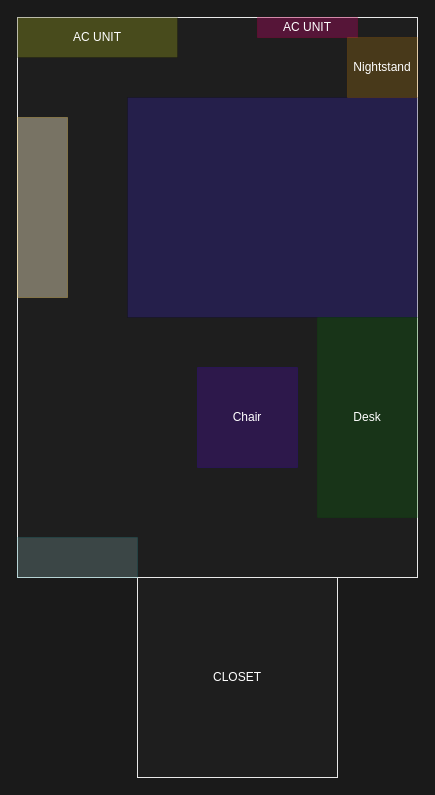
This 435x795 diagram has some shape labels left out. The centre of each missing label's shape, as x and y in pixels:
Bed / Bedframe: [272,207]
Door space: [77,557]
dresser: [42,207]
